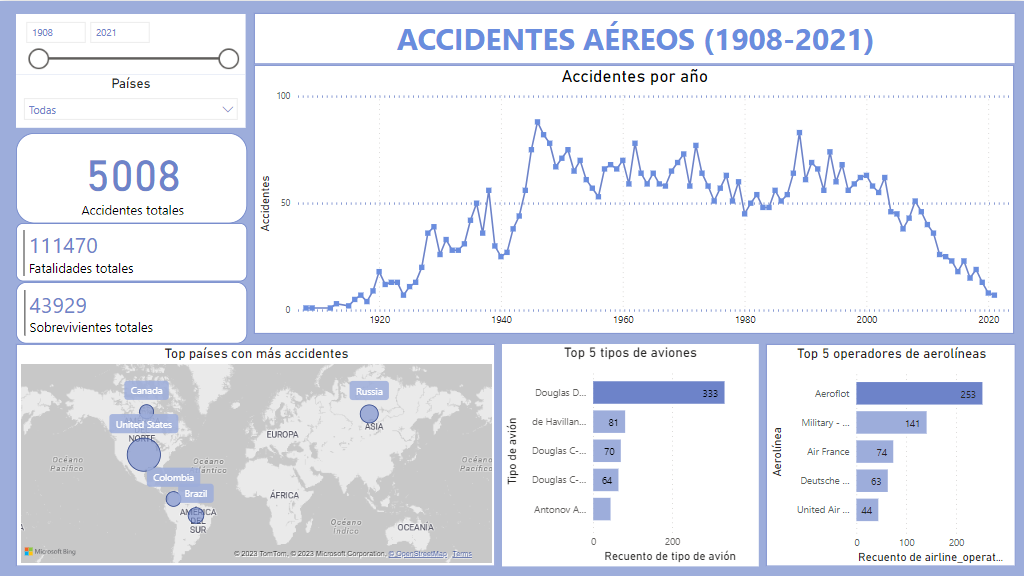

What the dashboard file says about the page in this screenshot:
{"tool":"powerbi","page":{"name":"Overview","canvas":[1280,720],"ordinal":1},"visuals":[{"type":"multiRowCard","fields":{"Values":["Sum(Accidentes_tratado.total_fatalities)"]},"box":[20.5,278,289.4,72.9],"z":0},{"type":"multiRowCard","fields":{"Values":["Sum(Accidentes_tratado.survivors)"]},"box":[20.5,350.9,289.4,77.5],"z":1000},{"type":"card","fields":{"Values":["Accidentes_tratado.Accidentes"]},"box":[20.5,165.2,289.4,112.8],"z":2000},{"type":"map","title":"Top países con más accidentes","fields":{"Category":["Accidentes_tratado.country"],"Size":["CountNonNull(Accidentes_tratado.country)"]},"box":[20.5,428.4,599.2,278],"z":3000},{"type":"clusteredBarChart","title":"Top 5 operadores de aerolíneas","fields":{"Category":["Accidentes_tratado.airline_operator"],"Y":["CountNonNull(Accidentes_tratado.airline_operator)"]},"box":[958.1,428.4,312.2,278],"z":4000},{"type":"textbox","box":[317.4,15.4,952.3,64.3],"z":5000},{"type":"lineChart","title":"Accidentes por año","fields":{"Y":["Accidentes_tratado.Accidentes"],"Category":["Calendar.Year"]},"box":[317.8,79.7,950.1,336.1],"z":6000},{"type":"clusteredBarChart","title":"Top 5 tipos de aviones","fields":{"Category":["Accidentes_tratado.aircraft_type"],"Y":["CountNonNull(Accidentes_tratado.aircraft_type)"]},"box":[627.7,428.4,321.3,278],"z":7000},{"type":"slicer","title":"Países","fields":{"Values":["Accidentes_tratado.country"]},"box":[20.5,92.3,287.1,66.1],"z":8000},{"type":"slicer","title":"Año","fields":{"Values":["Calendar.Year"]},"box":[20.5,15.9,287.1,76.3],"z":9000}]}

Visuals, with their boxes in screenshot pixels (x1, y1, x2, y2), scaled from the page's 1280x720 canvas onto the 1024x576 screenshot:
multiRowCard - Sum(Accidentes_tratado.total_fatalities): [left=16, top=222, right=248, bottom=281]
multiRowCard - Sum(Accidentes_tratado.survivors): [left=16, top=281, right=248, bottom=343]
card - Accidentes_tratado.Accidentes: [left=16, top=132, right=248, bottom=222]
"Top países con más accidentes" map: [left=16, top=343, right=496, bottom=565]
"Top 5 operadores de aerolíneas" clusteredBarChart: [left=766, top=343, right=1016, bottom=565]
textbox: [left=254, top=12, right=1016, bottom=64]
"Accidentes por año" lineChart: [left=254, top=64, right=1014, bottom=333]
"Top 5 tipos de aviones" clusteredBarChart: [left=502, top=343, right=759, bottom=565]
"Países" slicer: [left=16, top=74, right=246, bottom=127]
"Año" slicer: [left=16, top=13, right=246, bottom=74]
